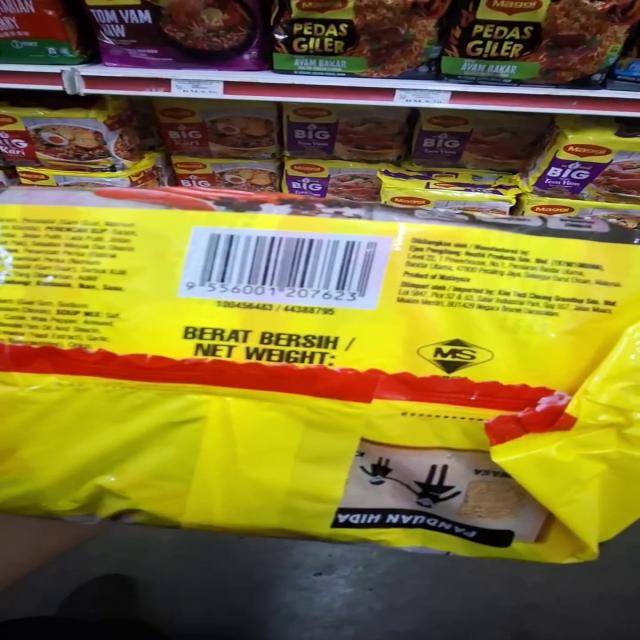Maggi: (13, 204, 640, 557), (0, 104, 147, 168), (385, 176, 523, 225), (539, 132, 640, 192), (289, 159, 378, 210), (164, 162, 283, 198)
